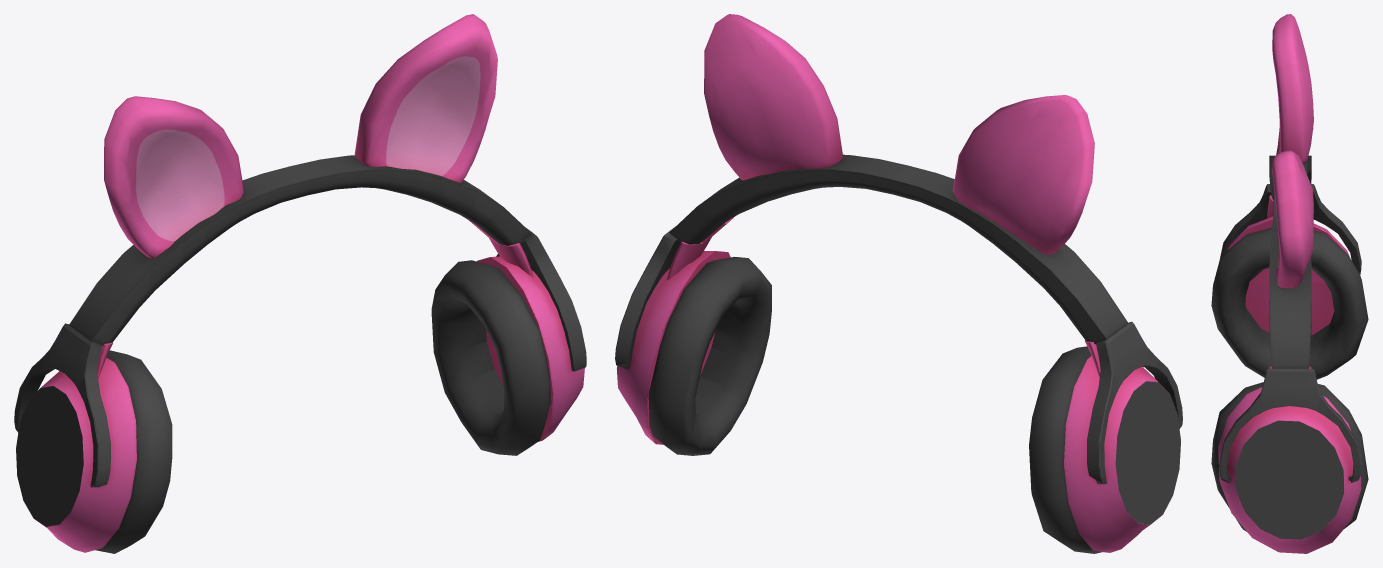
Rendered from importerSkin16Headphone.fbx.
3 renders of one model, left to right at view 1: azimuth 30°, elevation 25°; view 2: azimuth 150°, elevation 25°; view 3: azimuth 270°, elevation 25°, orthographic. The views are drawn at different scales.
Parts seen in each view (by area): view 1: importerSkin16_headphone_geo; view 2: importerSkin16_headphone_geo; view 3: importerSkin16_headphone_geo.
Part boxes in pixels (box(x1,y1,x2,y2)): importerSkin16_headphone_geo: box(14, 14, 586, 553); importerSkin16_headphone_geo: box(615, 14, 1182, 553); importerSkin16_headphone_geo: box(1211, 14, 1368, 553).
Size of the model in its own units: 3.23 by 2.66 by 0.9885.
1 material, 1 textured.
